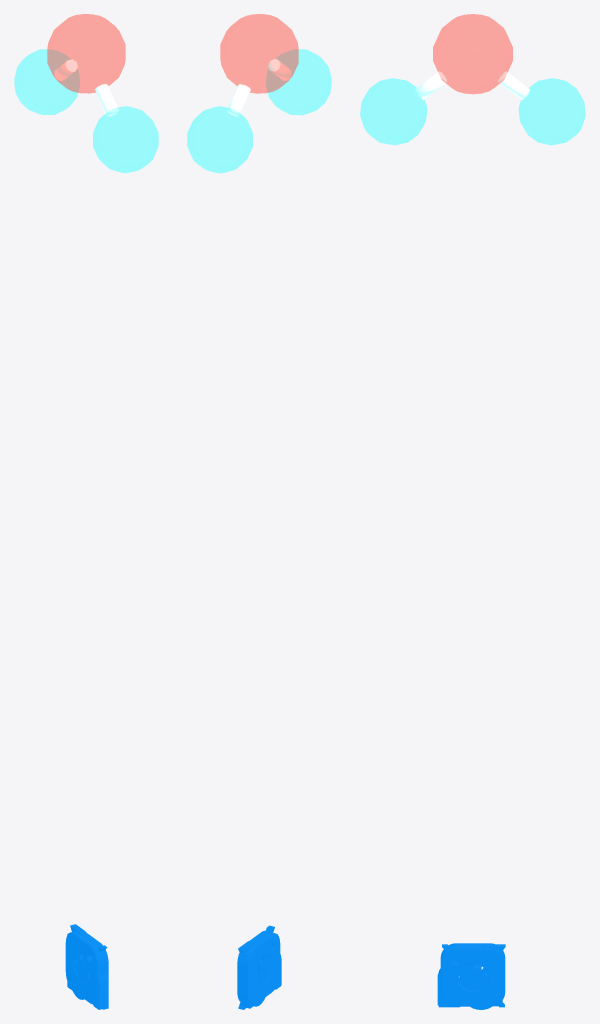
Rendered from social and molecules.glb.
The picture shows the model from 3 angles, left to right: view 1: azimuth 30°, elevation 25°; view 2: azimuth 150°, elevation 25°; view 3: azimuth 270°, elevation 25°; orthographic projection.
Visible parts, largest first — view 1: WATER, instagram-svgrepo-com (1).svg.001, linked-in-logo-of-two-letters-svgrepo-com.svg; view 2: WATER, instagram-svgrepo-com (1).svg.001, linked-in-logo-of-two-letters-svgrepo-com.svg; view 3: WATER, instagram-svgrepo-com (1).svg.001, icons8-twitter.svg.001.
Part boxes in pixels (left/top/right/bottom): WATER: left=14, top=14, right=158, bottom=172; instagram-svgrepo-com (1).svg.001: left=65, top=931, right=108, bottom=1004; linked-in-logo-of-two-letters-svgrepo-com.svg: left=67, top=933, right=108, bottom=1009; WATER: left=187, top=14, right=331, bottom=172; instagram-svgrepo-com (1).svg.001: left=237, top=930, right=280, bottom=1004; linked-in-logo-of-two-letters-svgrepo-com.svg: left=240, top=953, right=281, bottom=1008; WATER: left=360, top=14, right=585, bottom=144; instagram-svgrepo-com (1).svg.001: left=440, top=943, right=505, bottom=1006; icons8-twitter.svg.001: left=438, top=944, right=505, bottom=1007.
Bounding box in the file's own units: 0.2354 × 3.23 × 0.6672.
